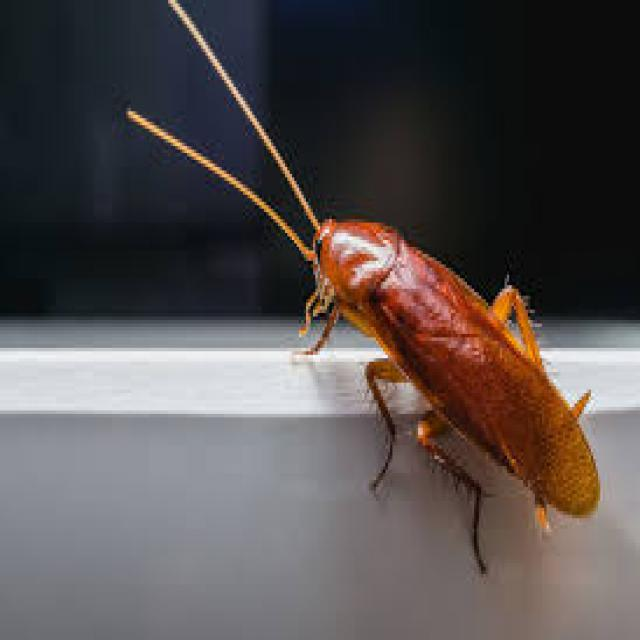Cockroach: (116, 0, 612, 591)
